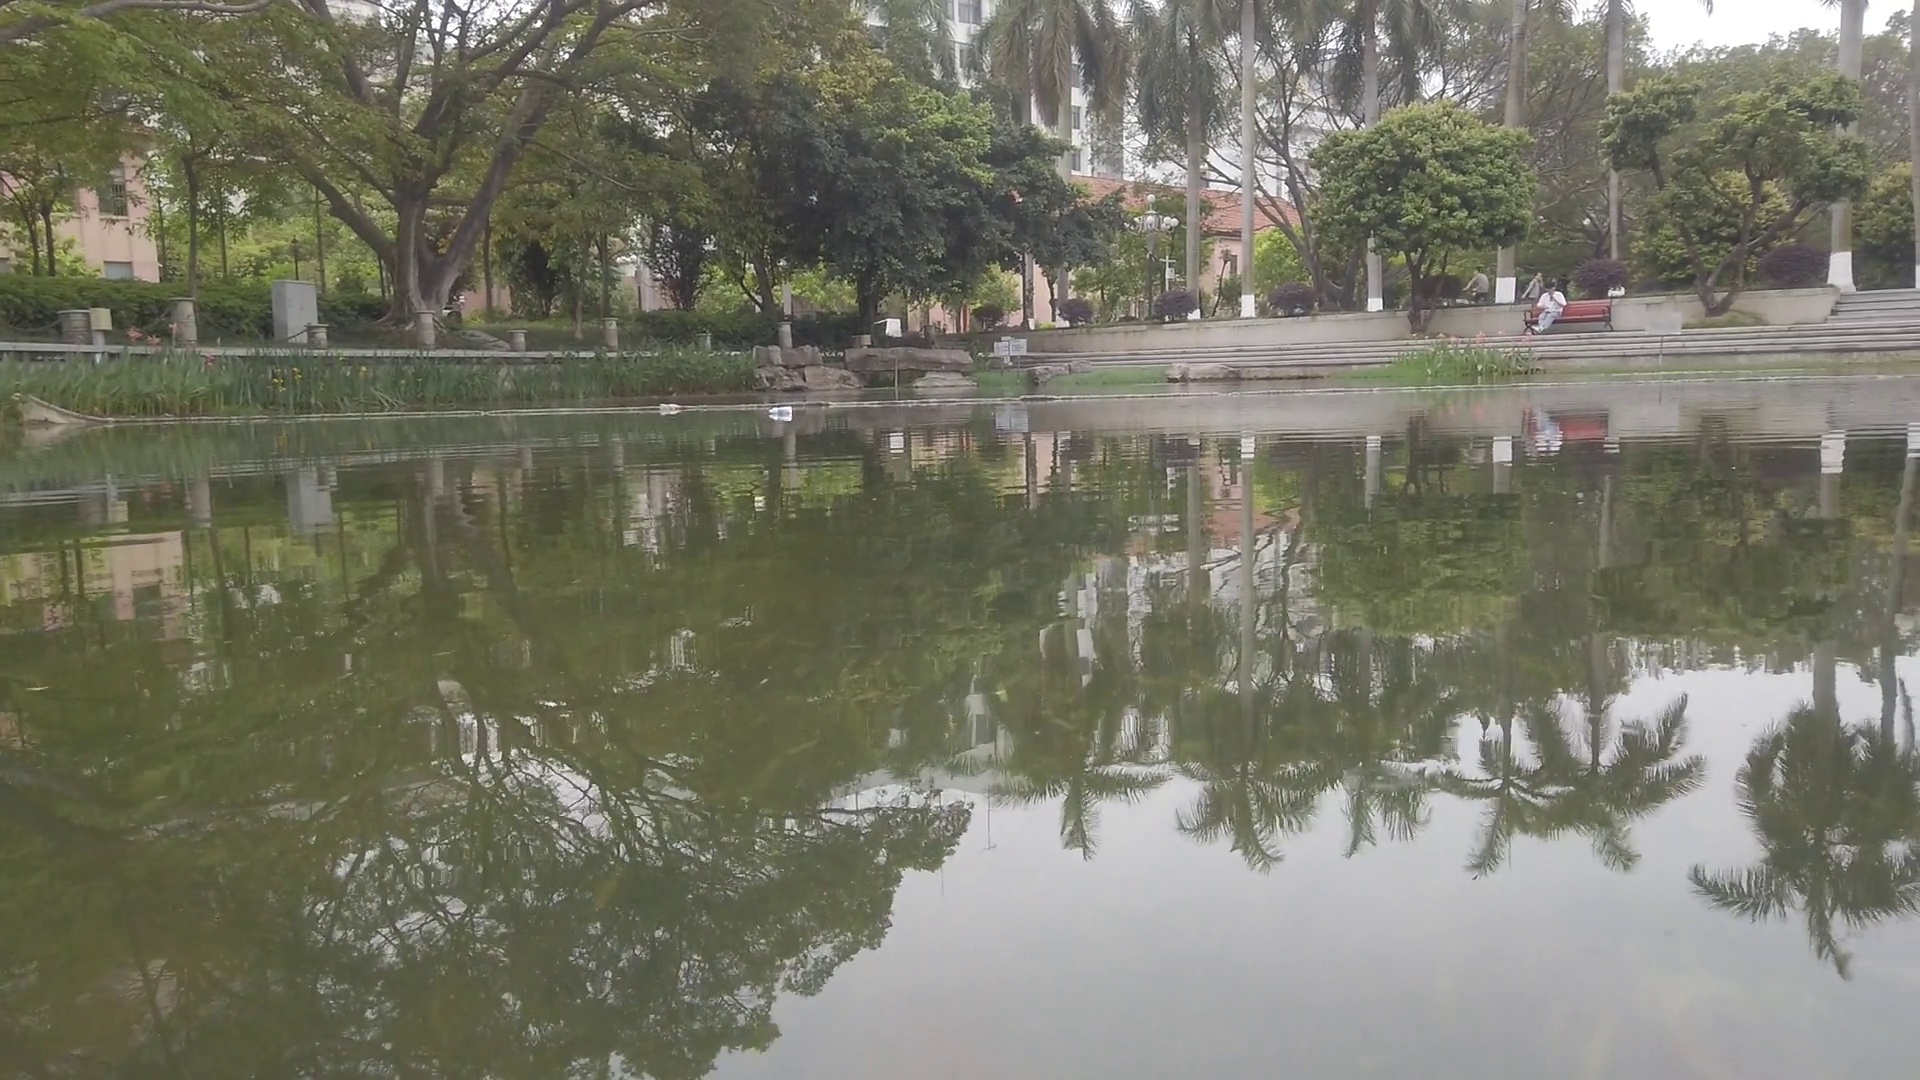bottle: (769, 407, 793, 414), (661, 404, 680, 411)
